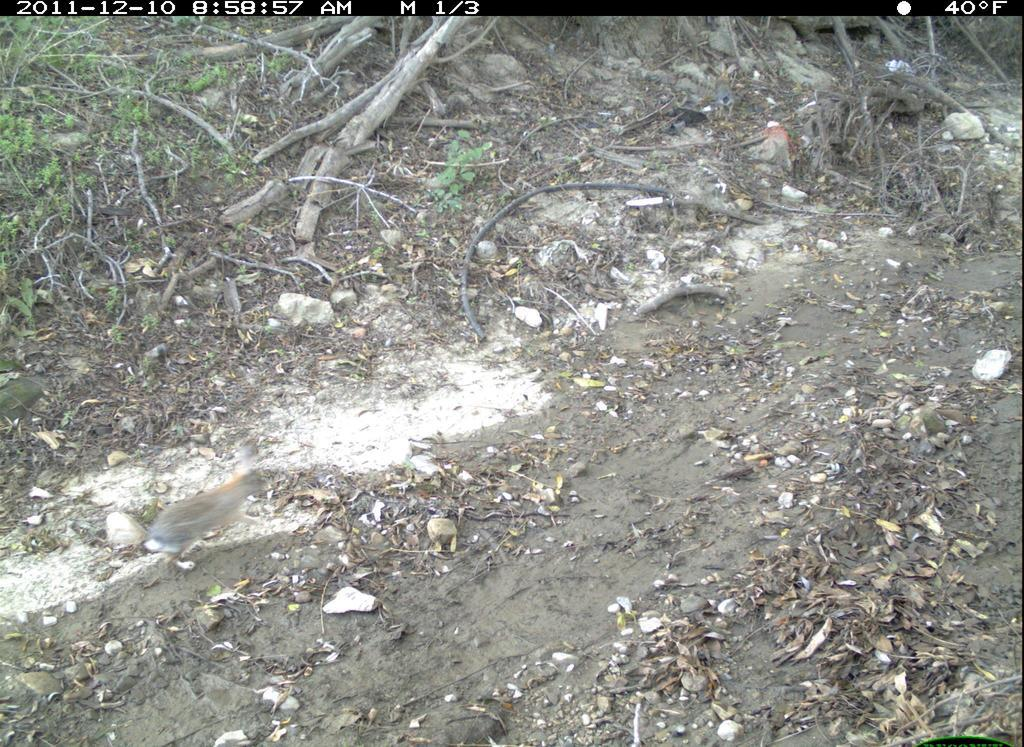rabbit: (136, 456, 272, 571)
